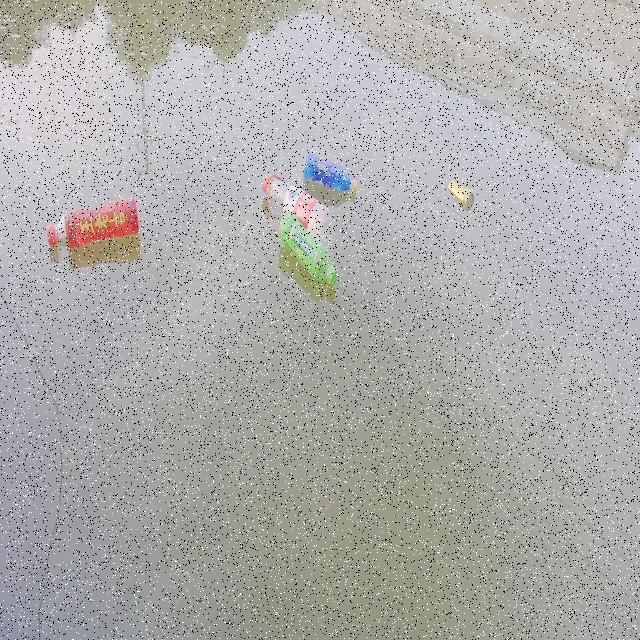Bottle: (44, 191, 143, 251), (262, 174, 339, 242), (275, 212, 339, 288), (300, 146, 363, 188)
Can: (441, 174, 476, 212)
